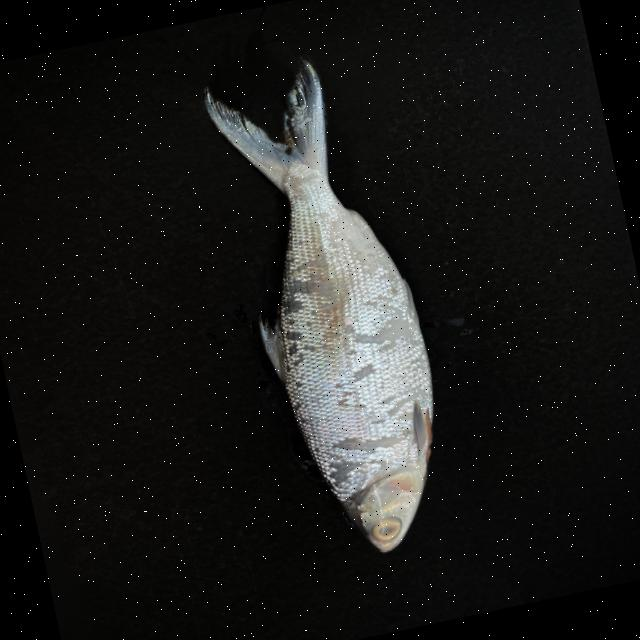750 g: (197, 41, 466, 568)
